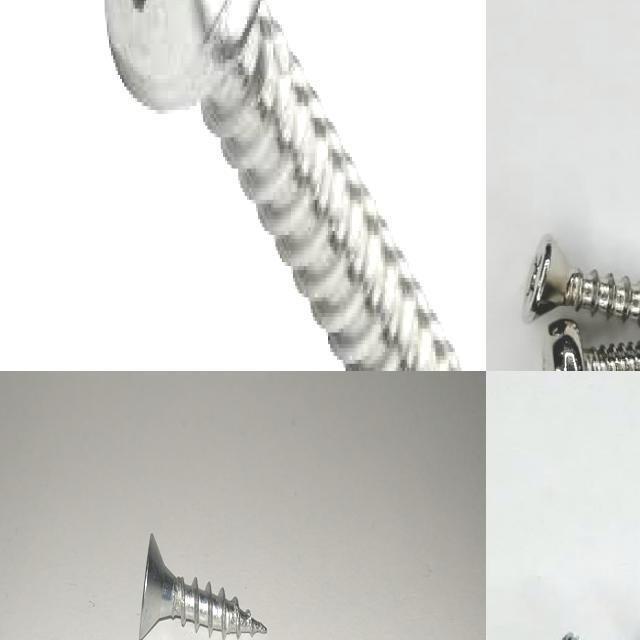Screw: (104, 0, 467, 371), (139, 532, 267, 639), (524, 236, 640, 324)
